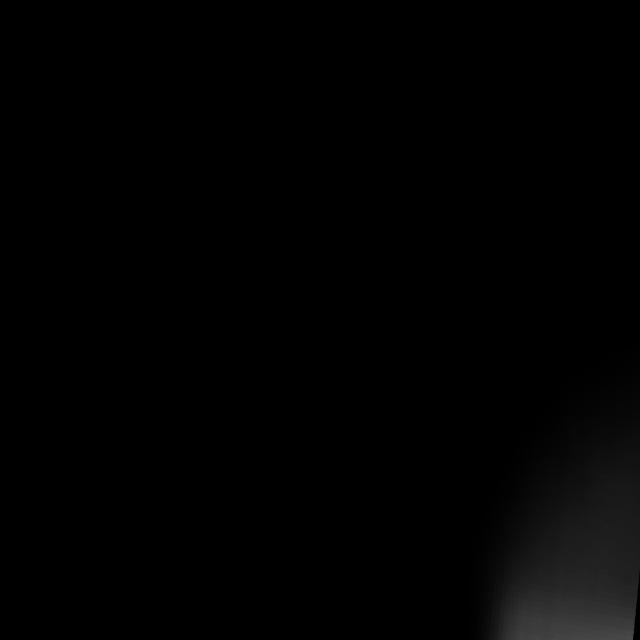person: (406, 170, 640, 640)
